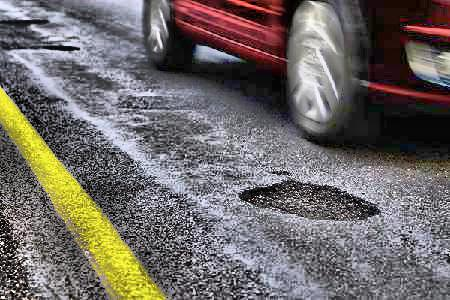pothole: (237, 178, 380, 220), (1, 17, 50, 26), (42, 42, 79, 51), (269, 168, 289, 176)
